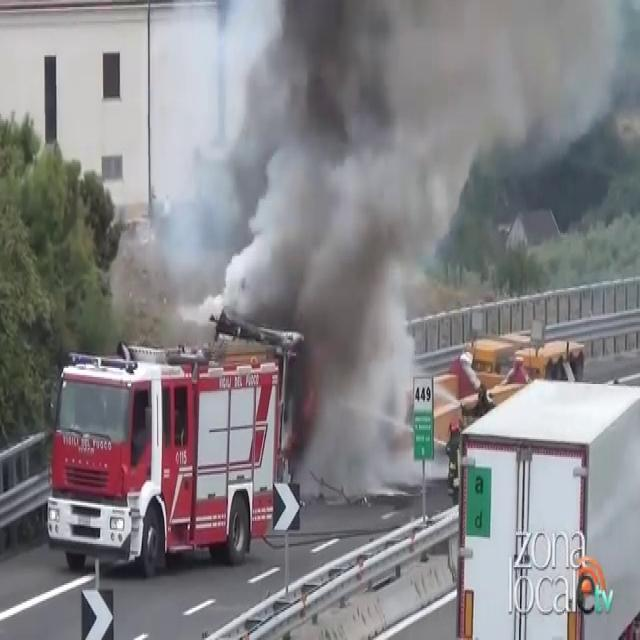Smoke: (164, 0, 634, 425)
